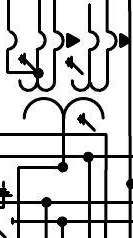115_vt_1p: (17, 29, 131, 133)
